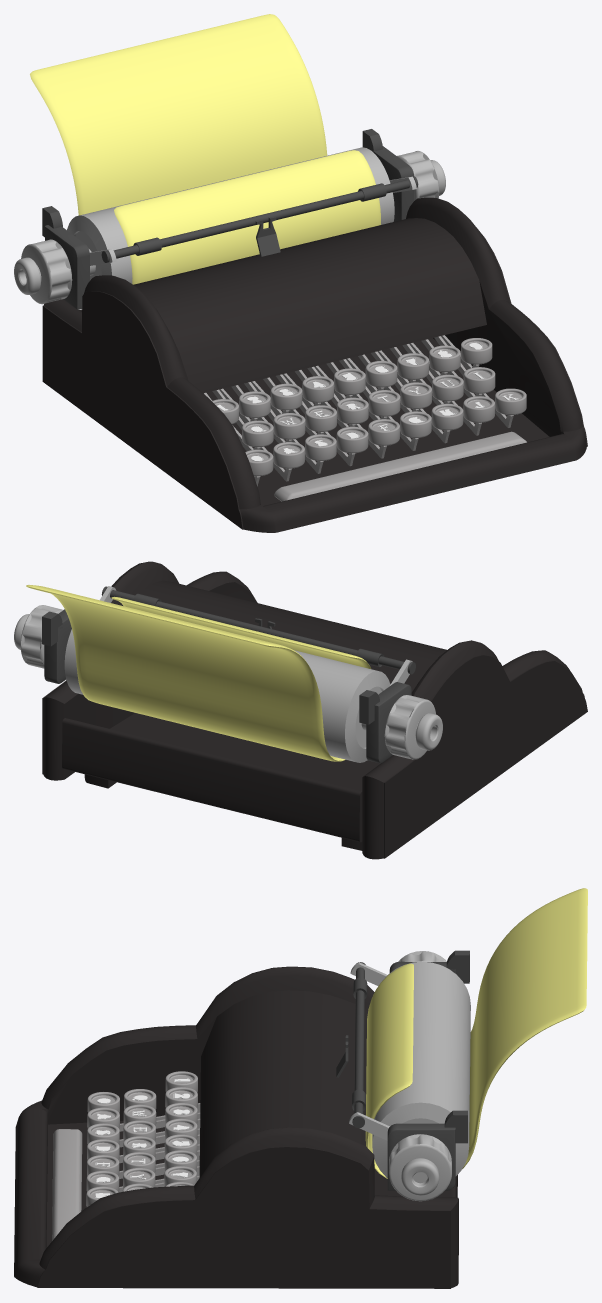
The model's file is maquina de escrever1.fbx.
The picture shows the model from 3 angles, top to bottom: view 1: azimuth 30°, elevation 25°; view 2: azimuth 150°, elevation 25°; view 3: azimuth 270°, elevation 25°; orthographic projection. The views are drawn at different scales.
Visible parts, largest first — view 1: maquina de escrever; view 2: maquina de escrever; view 3: maquina de escrever.
Boxes of the visible parts, x1,y1,x2,y2 form: maquina de escrever: [14, 14, 587, 532]; maquina de escrever: [14, 561, 587, 859]; maquina de escrever: [14, 888, 587, 1288].
Bounding box in the file's own units: 35.67 × 21.18 × 41.58.
